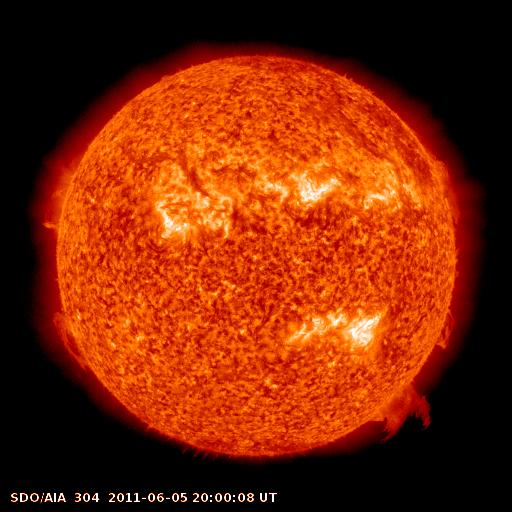prominence: (363, 374, 440, 442), (42, 307, 99, 375), (429, 148, 466, 228), (30, 178, 79, 235), (426, 297, 459, 356)
